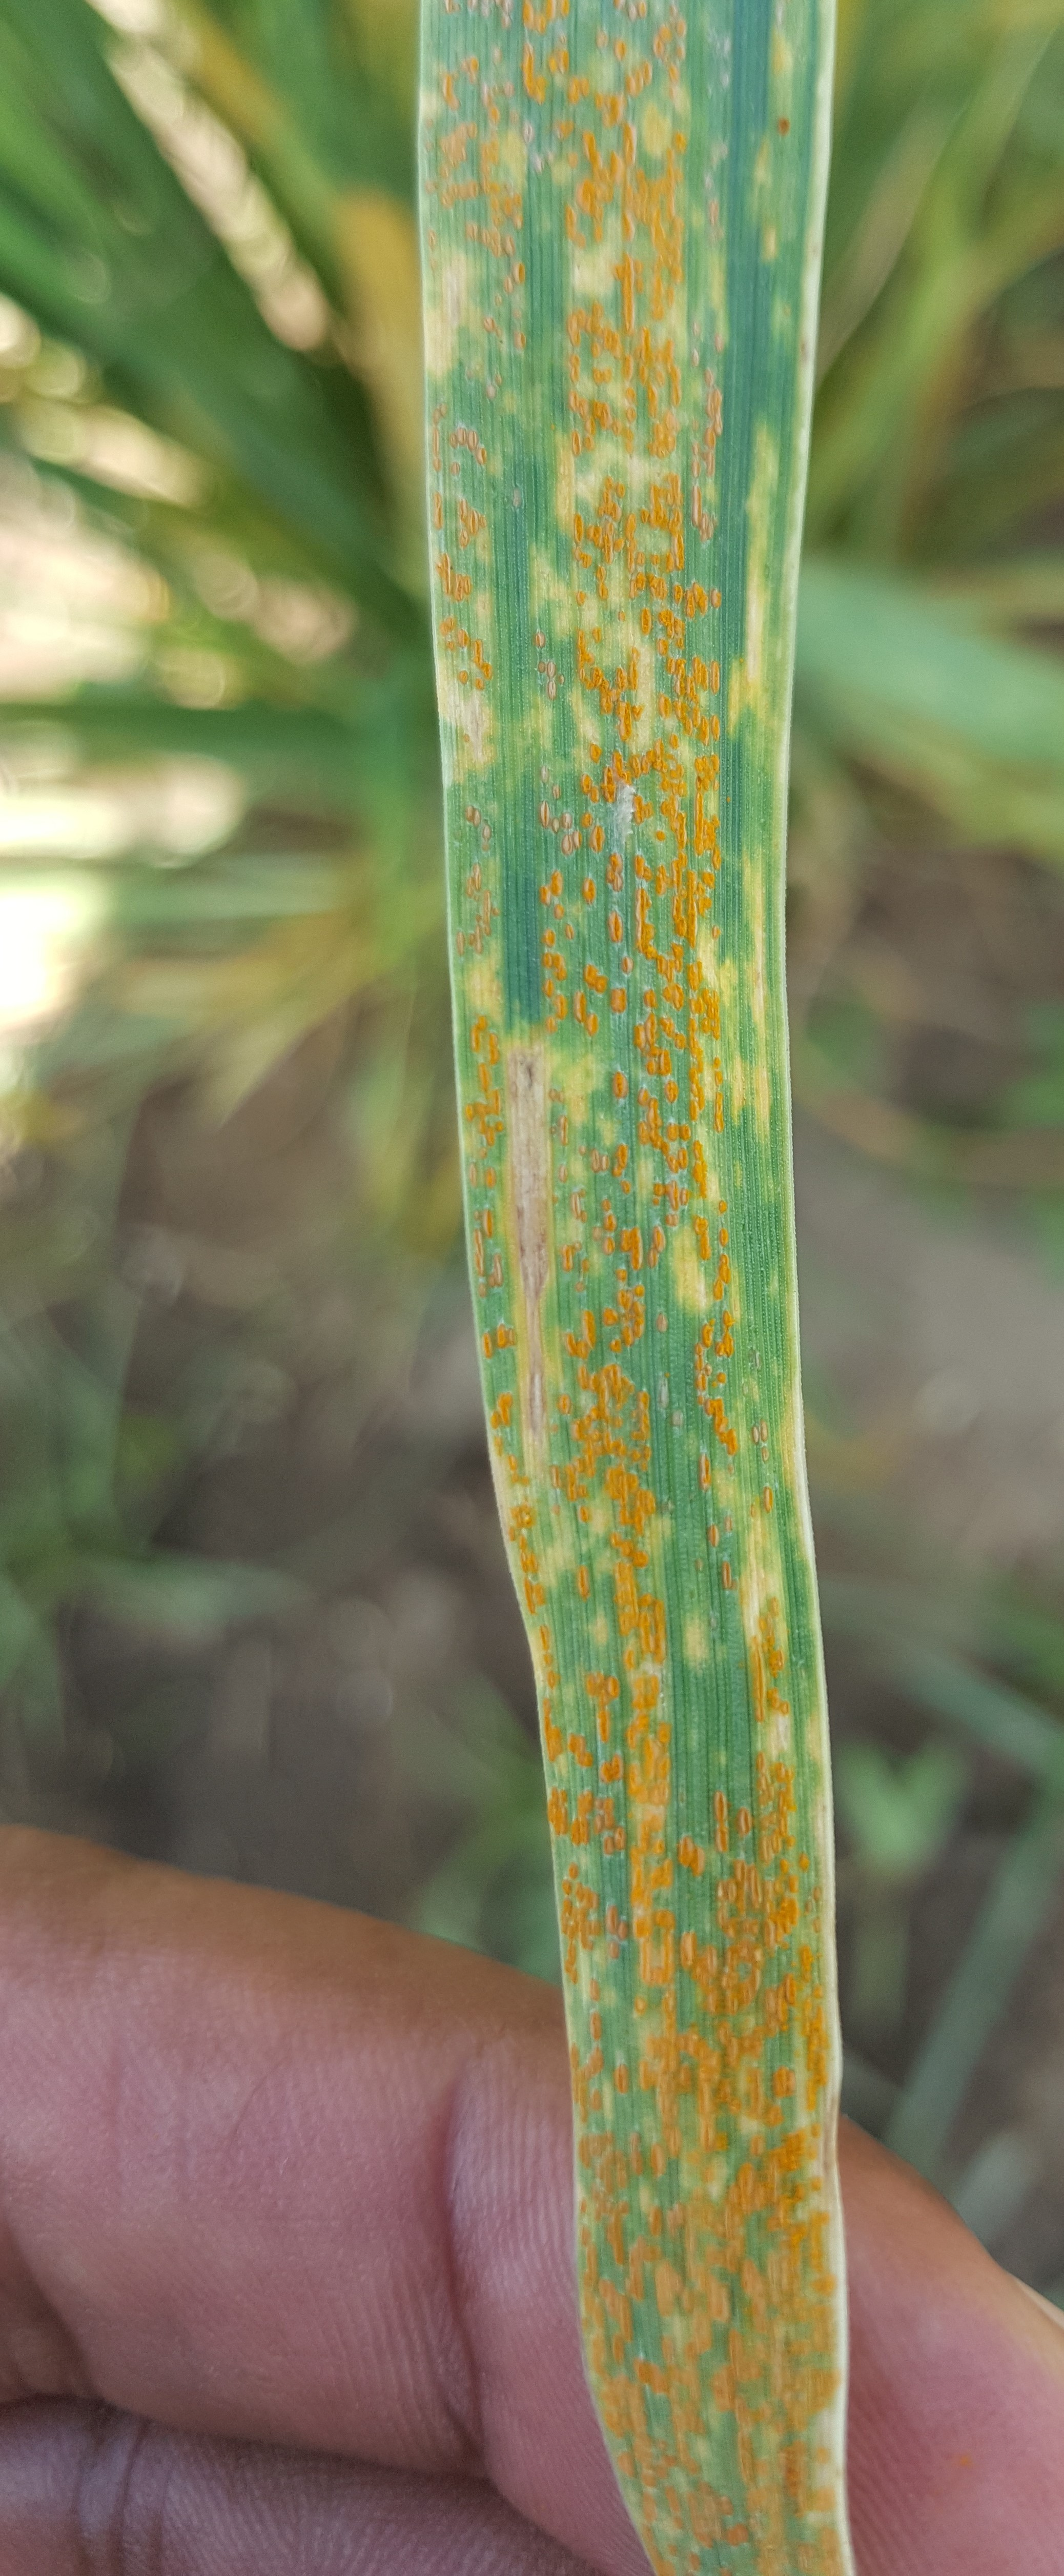Leaf Rust: (419, 217, 903, 2484)
